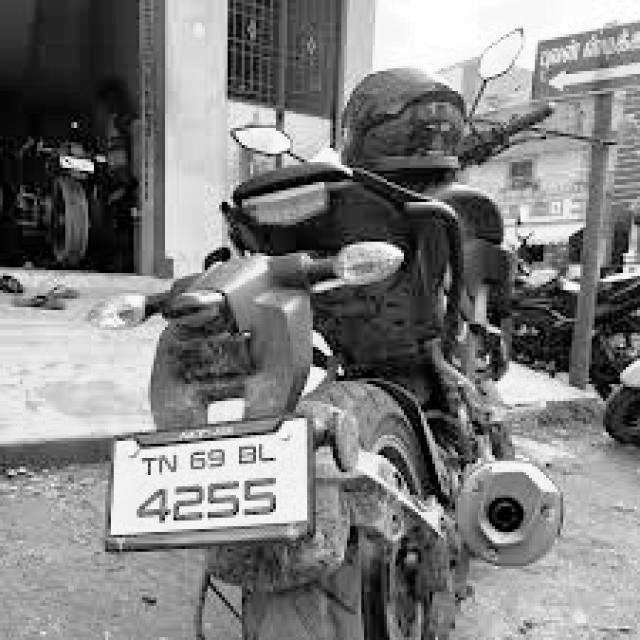Bike: (109, 1, 559, 640)
